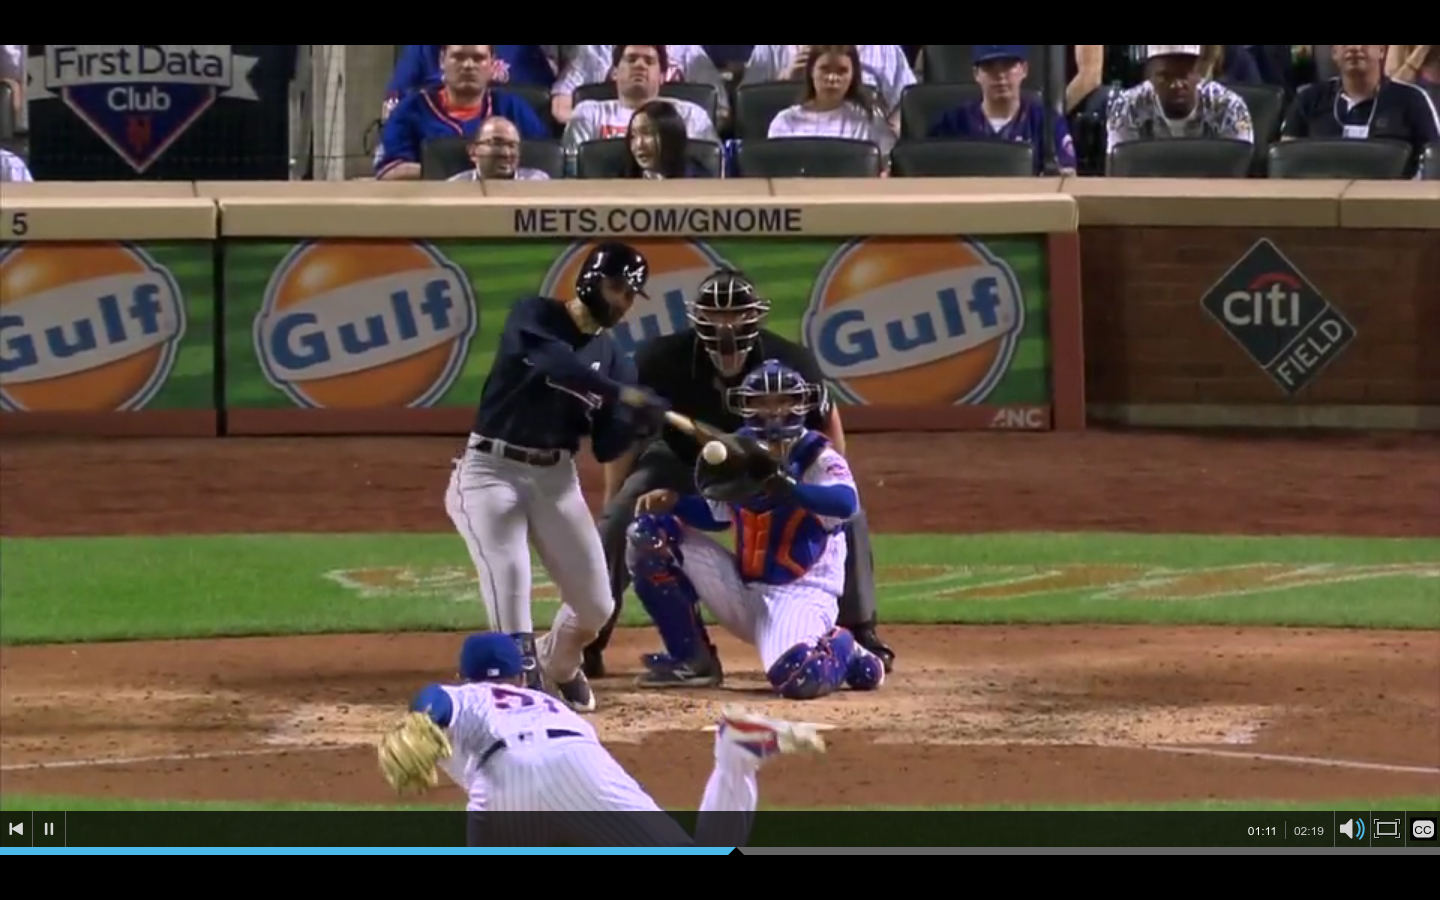baseball: (698, 432, 733, 472)
baseball player: (439, 237, 644, 722), (621, 363, 898, 694), (373, 626, 827, 814)
referee: (579, 271, 875, 679)
